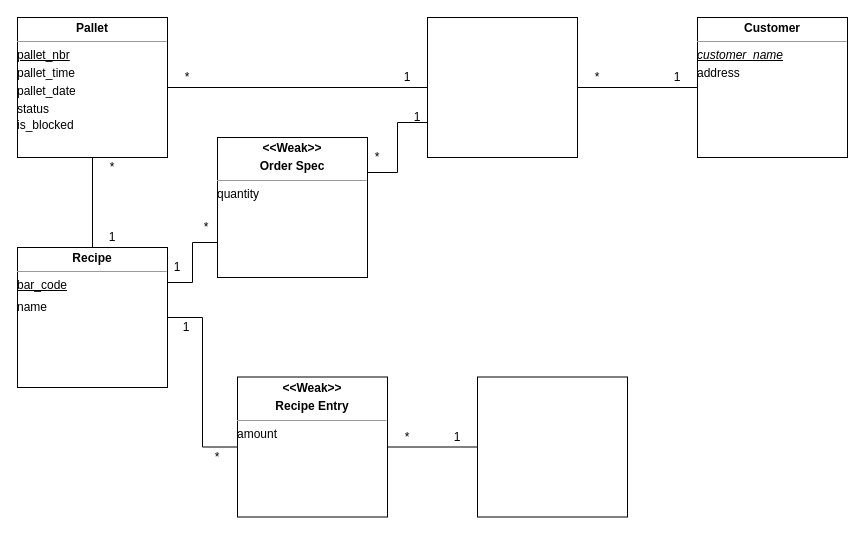
This 865x535 diagram has some shape labels left out. The centre of each missing label's shape, as x and y in pixels:
Order order_id delivery_date order_date: (x=502, y=87)
Raw Material ingredient_name balance unit update_date update_amount: (x=552, y=446)
